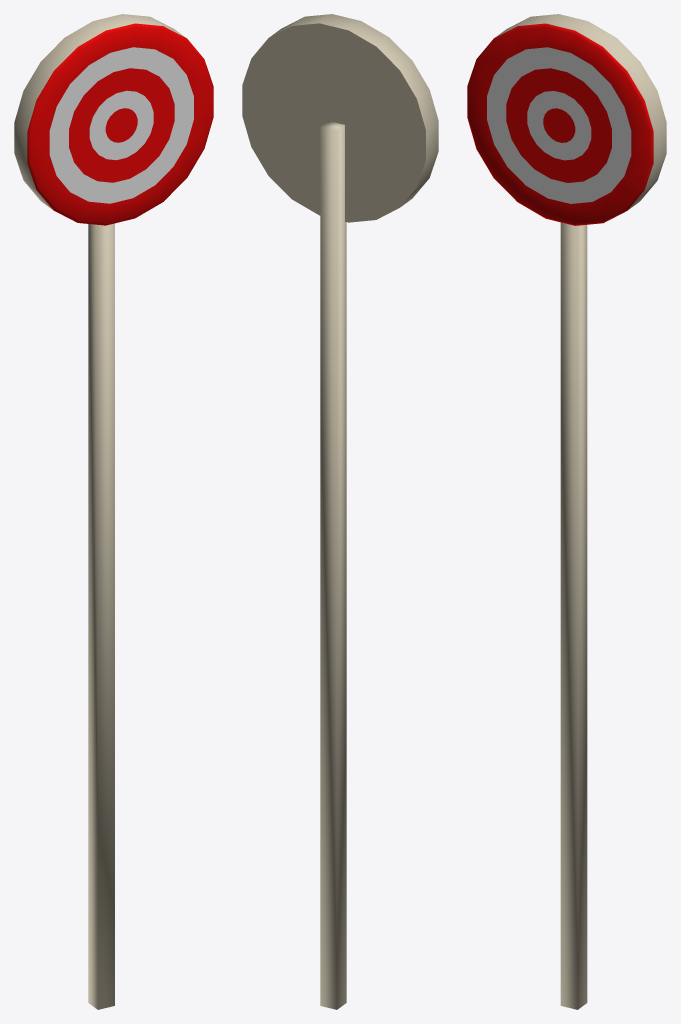
Rendered from Dartboard.fbx.
The picture shows the model from 3 angles, left to right: view 1: azimuth 30°, elevation 25°; view 2: azimuth 150°, elevation 25°; view 3: azimuth 330°, elevation 25°; orthographic projection.
Visible parts, largest first — view 1: Schietschijf; view 2: Schietschijf; view 3: Schietschijf.
Boxes of the visible parts, x1,y1,x2,y2 form: Schietschijf: [14, 14, 213, 1009]; Schietschijf: [242, 14, 438, 1009]; Schietschijf: [467, 14, 666, 1009].
Size of the model in its own units: 2.01 by 10.17 by 0.4178.
